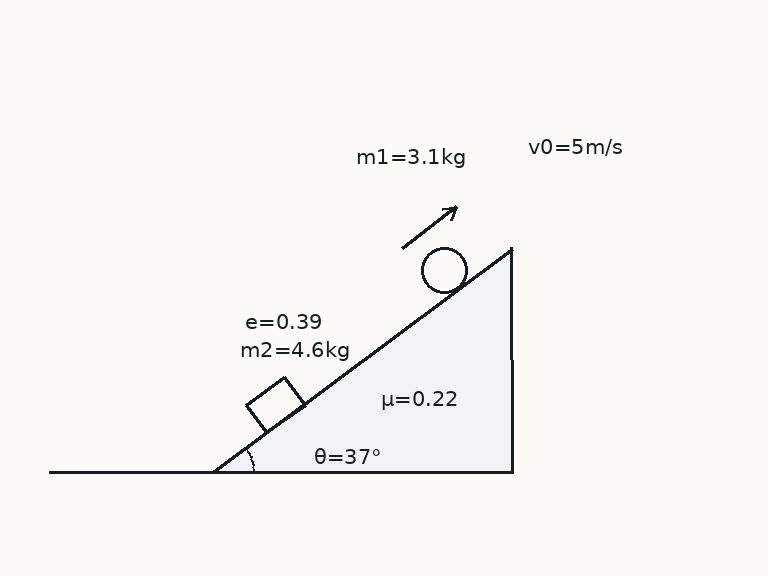ball: (419, 245, 469, 295)
block: (244, 375, 306, 434)
ramp: (212, 246, 514, 474)
